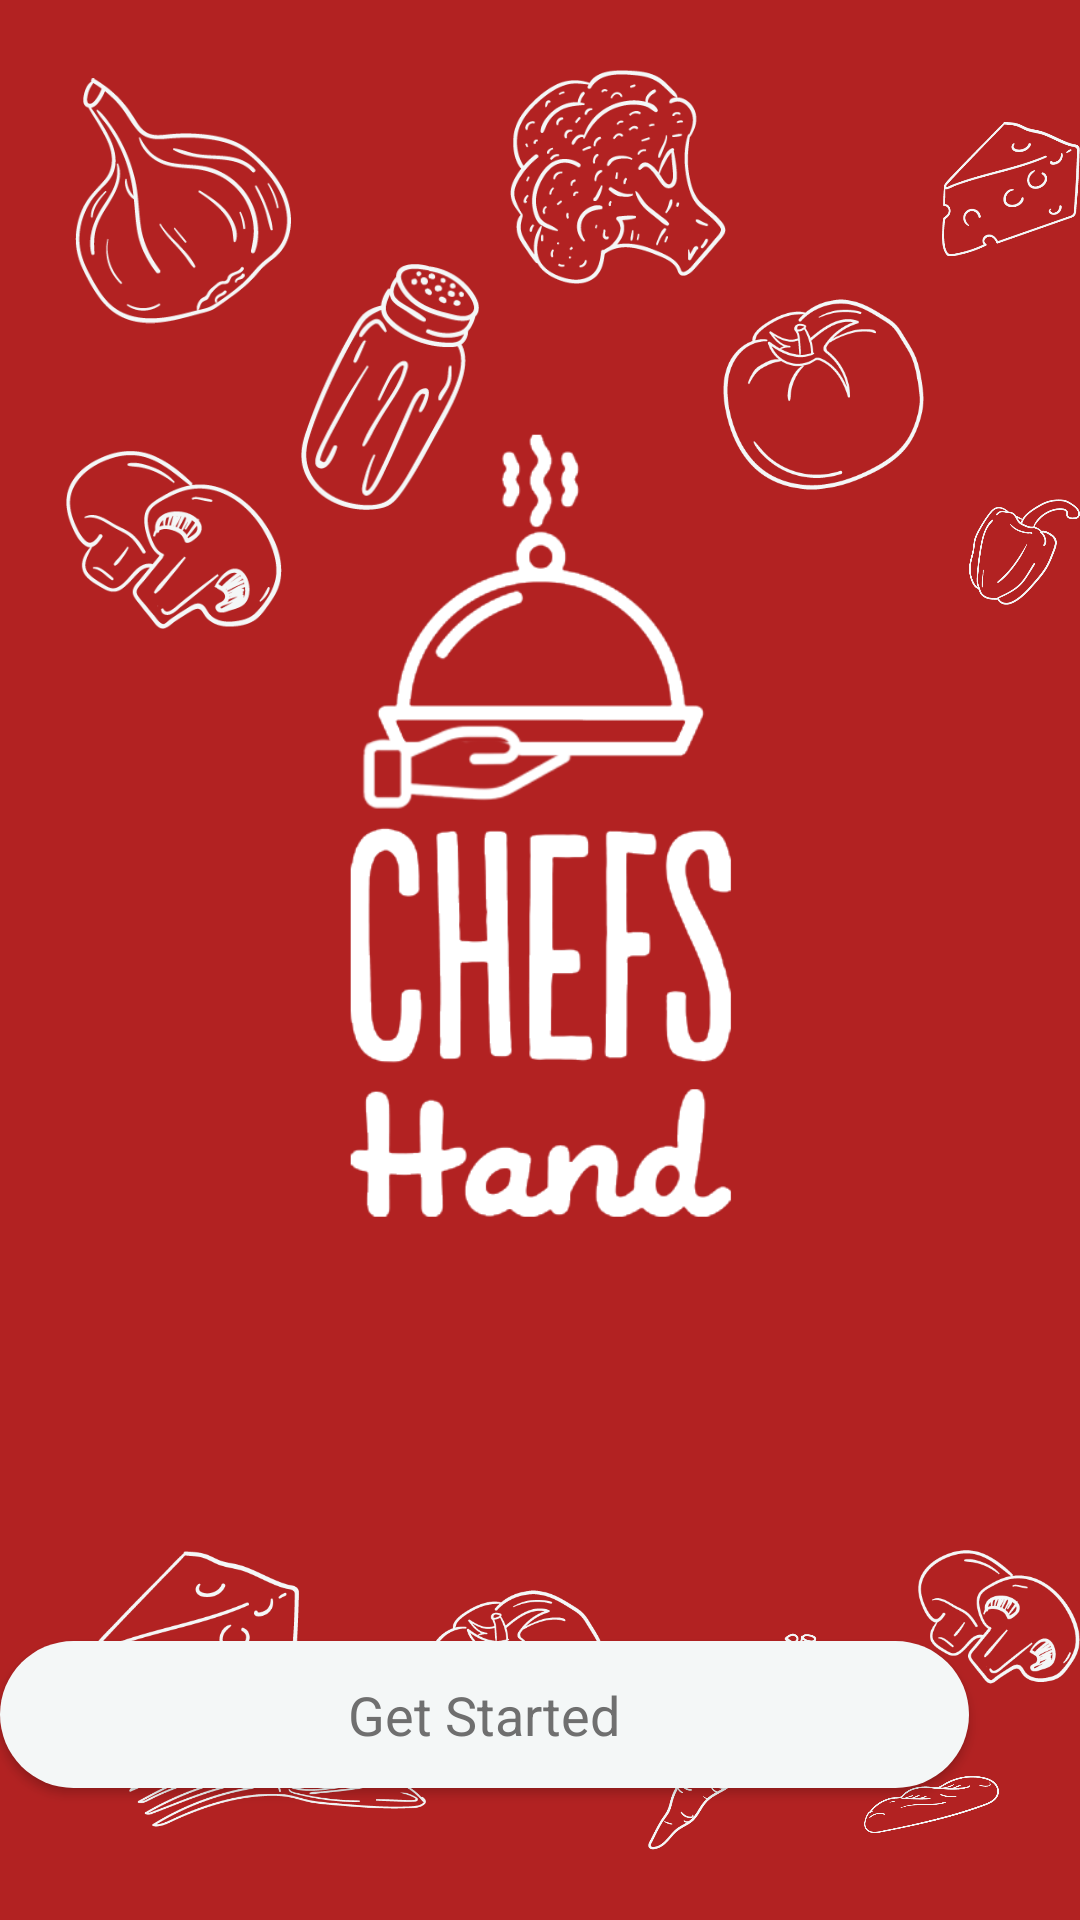

Named icons in this screenshot (1080*1920) and their centers, [x,y]:
brocoli: [618,177]
capsicun: [1024,552]
mushroom: [174,540], [999,1617]
onion: [183,201]
salt: [390,387]
